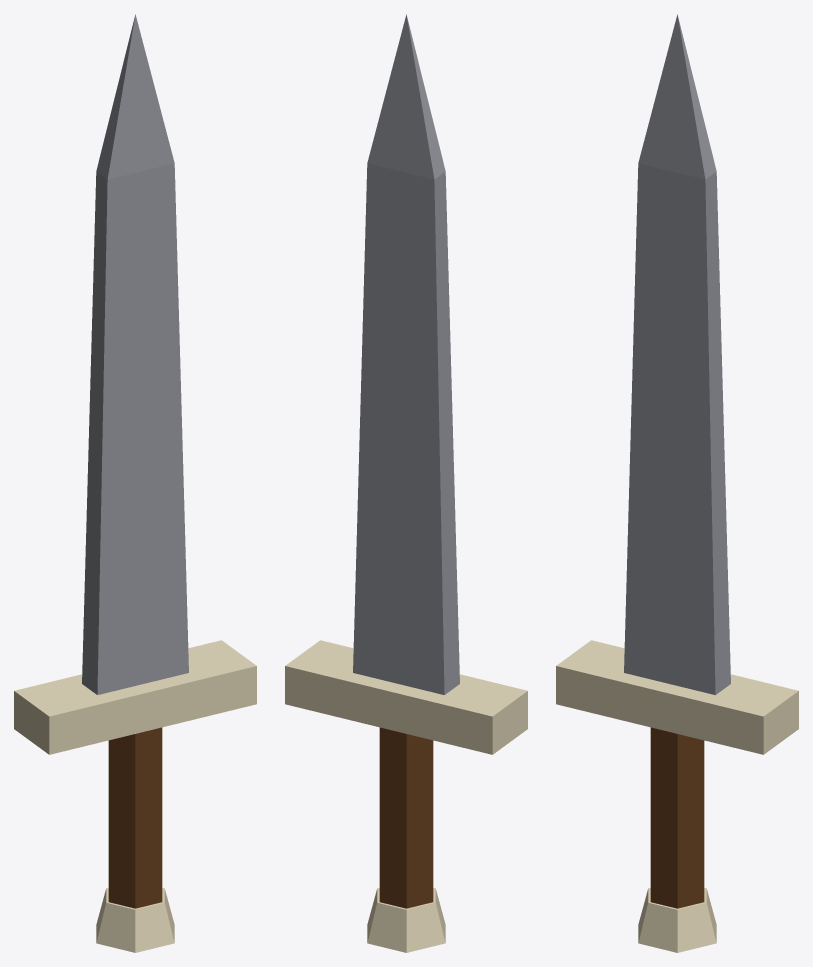
The model's file is Sword.obj.
3 renders of one model, left to right at view 1: azimuth 30°, elevation 25°; view 2: azimuth 150°, elevation 25°; view 3: azimuth 330°, elevation 25°, orthographic.
Visible parts, largest first — view 1: Blade, Grip; view 2: Blade, Grip; view 3: Blade, Grip.
Part boxes in pixels (x1,y1,x2,y2): Blade: (82, 14, 188, 694); Grip: (14, 640, 256, 952); Blade: (353, 14, 459, 694); Grip: (285, 640, 527, 952); Blade: (624, 14, 730, 694); Grip: (556, 640, 798, 952).
Bounding box in the file's own units: 0.17 × 0.72 × 0.0554.
